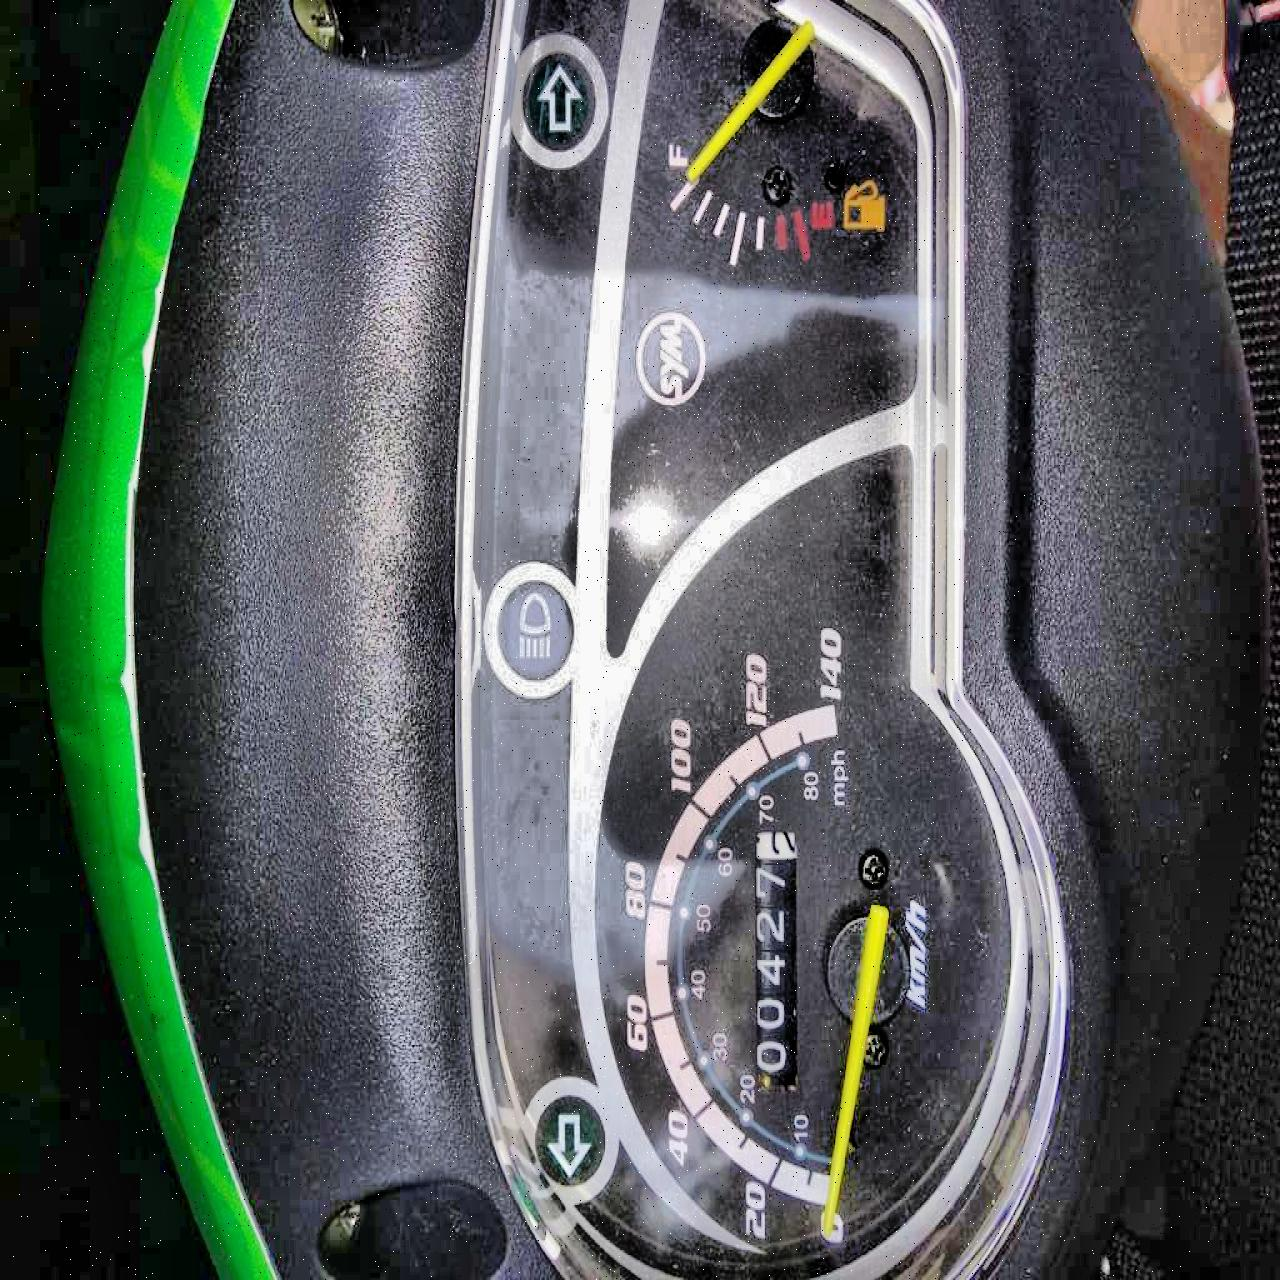0: (751, 999, 789, 1032), (754, 1036, 788, 1070)
2: (753, 907, 787, 945), (765, 829, 796, 857)
4: (751, 952, 785, 988)
7: (753, 864, 785, 899)
odometer: (748, 825, 798, 1087)
